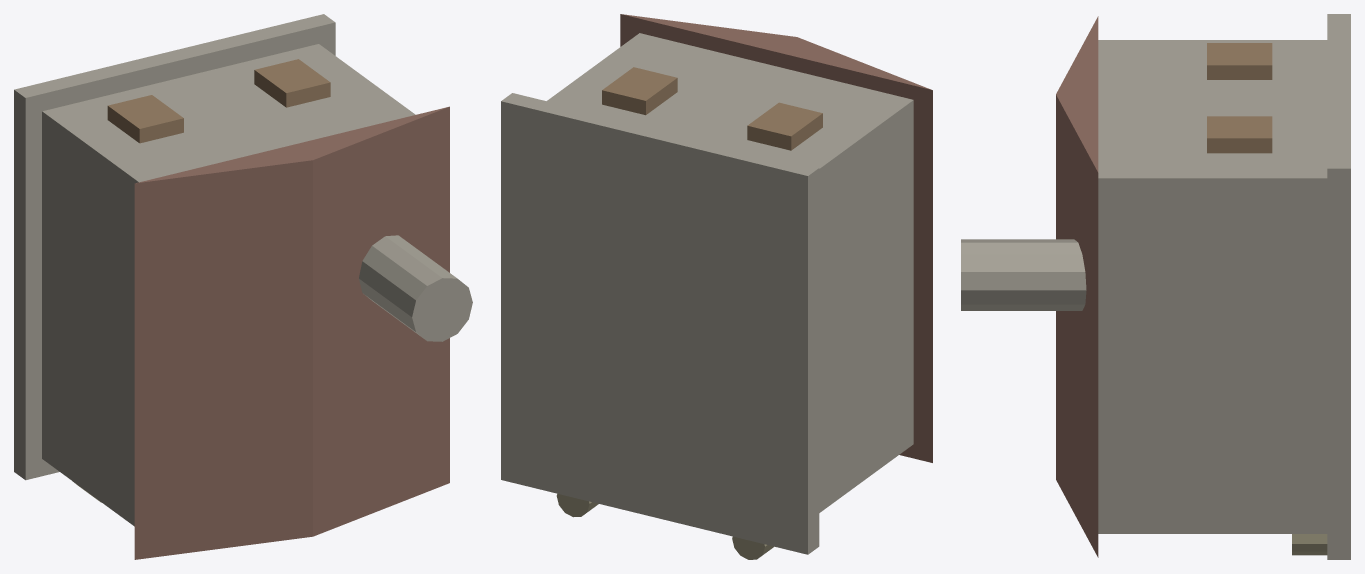
The model's file is AGE_II_industrial.glb.
3 renders of one model, left to right at view 1: azimuth 30°, elevation 25°; view 2: azimuth 150°, elevation 25°; view 3: azimuth 270°, elevation 25°, orthographic. The views are drawn at different scales.
Parts seen in each view (by area): view 1: world; view 2: world; view 3: world.
Part boxes in pixels (x1=…): world: x1=14, y1=14, x2=472, y2=559; world: x1=501, y1=14, x2=932, y2=559; world: x1=961, y1=14, x2=1350, y2=559.
Bounding box in the file's own units: 5.7 × 7.05 × 5.96.
